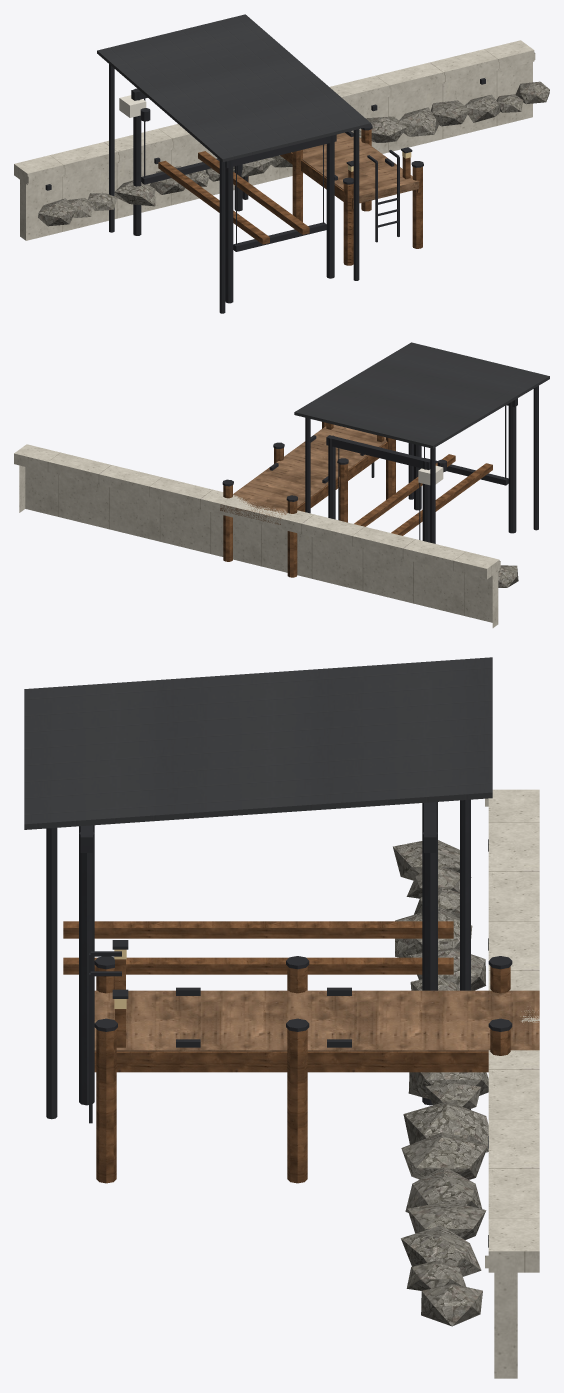
The model's file is med_dock_lift.fbx.
The picture shows the model from 3 angles, top to bottom: view 1: azimuth 30°, elevation 25°; view 2: azimuth 150°, elevation 25°; view 3: azimuth 270°, elevation 25°; orthographic projection. The views are drawn at different scales.
Visible parts, largest first — view 1: med_dock_lift_LOD0; view 2: med_dock_lift_LOD0; view 3: med_dock_lift_LOD0.
Part boxes in pixels (x1,y1,x2,y2): med_dock_lift_LOD0: (14, 14, 549, 313); med_dock_lift_LOD0: (14, 342, 549, 627); med_dock_lift_LOD0: (24, 657, 539, 1378).
Size of what is drawn, in the model's own units: 14.25 by 4.68 by 6.6.
Materials: 1 (1 with a texture image).
